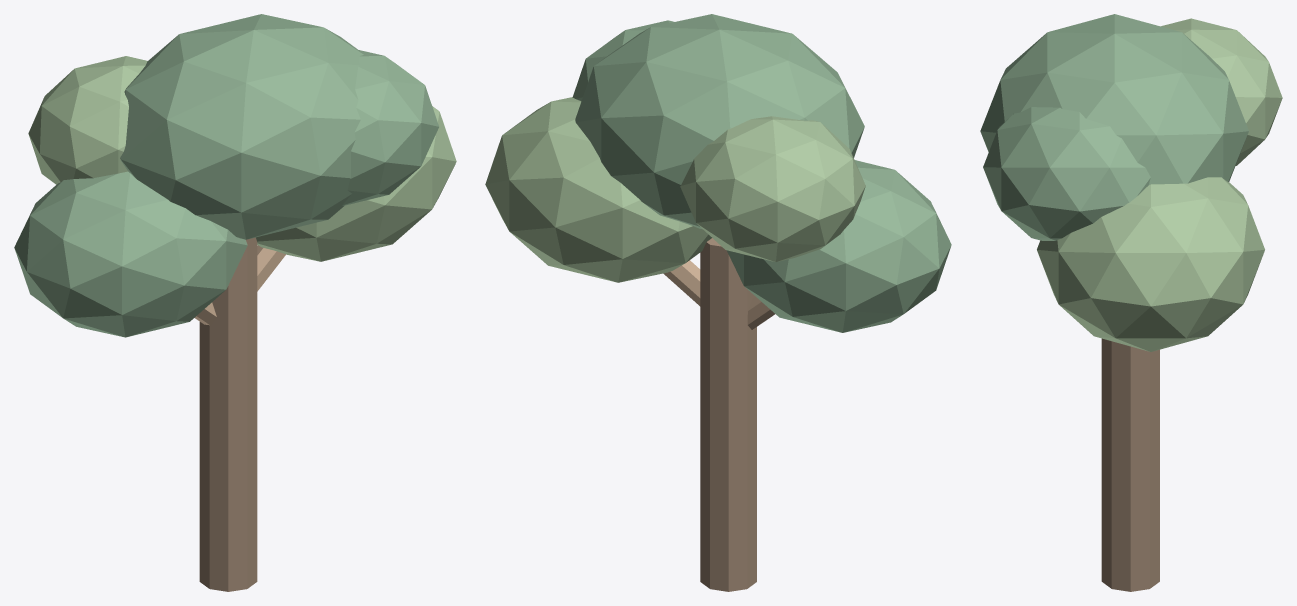
File: guardian_tree.glb
3 views of the same model, side by side, from view 1: azimuth 30°, elevation 25°; view 2: azimuth 150°, elevation 25°; view 3: azimuth 270°, elevation 25° (orthographic). The views are drawn at different scales.
Visible parts, largest first — view 1: canopy_2, canopy_0, trunk, canopy_3, canopy_4, canopy_1, branch_1; view 2: canopy_2, canopy_1, canopy_3, canopy_0, trunk, canopy_4, branch_1; view 3: canopy_1, canopy_2, canopy_4, trunk, canopy_3.
Part boxes in pixels (x1=…): canopy_2: x1=120, y1=14, x2=363, y2=239; canopy_0: x1=14, y1=171, x2=247, y2=337; trunk: x1=199, y1=237, x2=257, y2=591; canopy_3: x1=28, y1=56, x2=147, y2=184; canopy_4: x1=342, y1=50, x2=439, y2=205; canopy_1: x1=256, y1=106, x2=456, y2=261; branch_1: x1=257, y1=245, x2=285, y2=291; canopy_2: x1=575, y1=14, x2=864, y2=229; canopy_1: x1=485, y1=97, x2=711, y2=282; canopy_3: x1=680, y1=116, x2=865, y2=261; canopy_0: x1=726, y1=160, x2=951, y2=332; trunk: x1=700, y1=238, x2=756, y2=591; canopy_4: x1=572, y1=20, x2=673, y2=101; branch_1: x1=663, y1=260, x2=700, y2=306; canopy_1: x1=1037, y1=177, x2=1264, y2=351; canopy_2: x1=980, y1=14, x2=1248, y2=184; canopy_4: x1=983, y1=107, x2=1150, y2=240; trunk: x1=1101, y1=338, x2=1159, y2=591; canopy_3: x1=1161, y1=18, x2=1282, y2=165.
Size of the model in its own units: 3.75 by 4.55 by 2.25.
